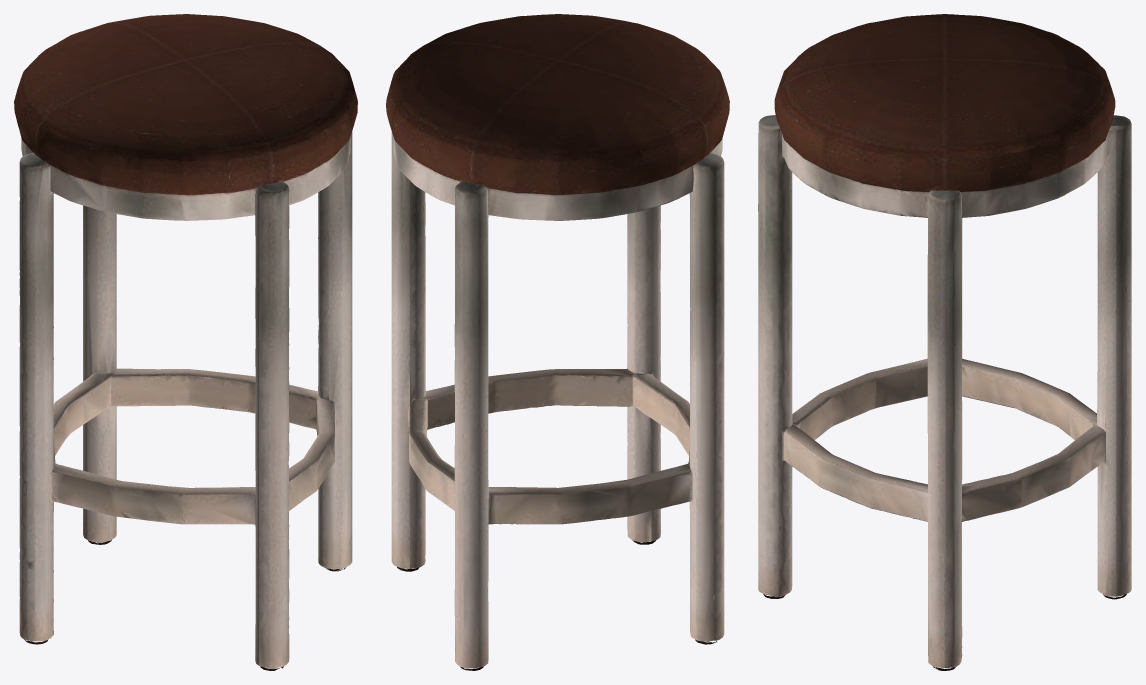
File: stool.glb
3 views of the same model, side by side, from view 1: azimuth 30°, elevation 25°; view 2: azimuth 150°, elevation 25°; view 3: azimuth 270°, elevation 25° (orthographic).
Parts seen in each view (by area): view 1: geometry_0; view 2: geometry_0; view 3: geometry_0.
Boxes of the visible parts, x1,y1,x2,y2 form: geometry_0: (14,14,357,670); geometry_0: (386,14,729,670); geometry_0: (758,14,1131,670).
Bounding box in the file's own units: 0.6356 × 1 × 0.635.
1 material, 1 textured.
